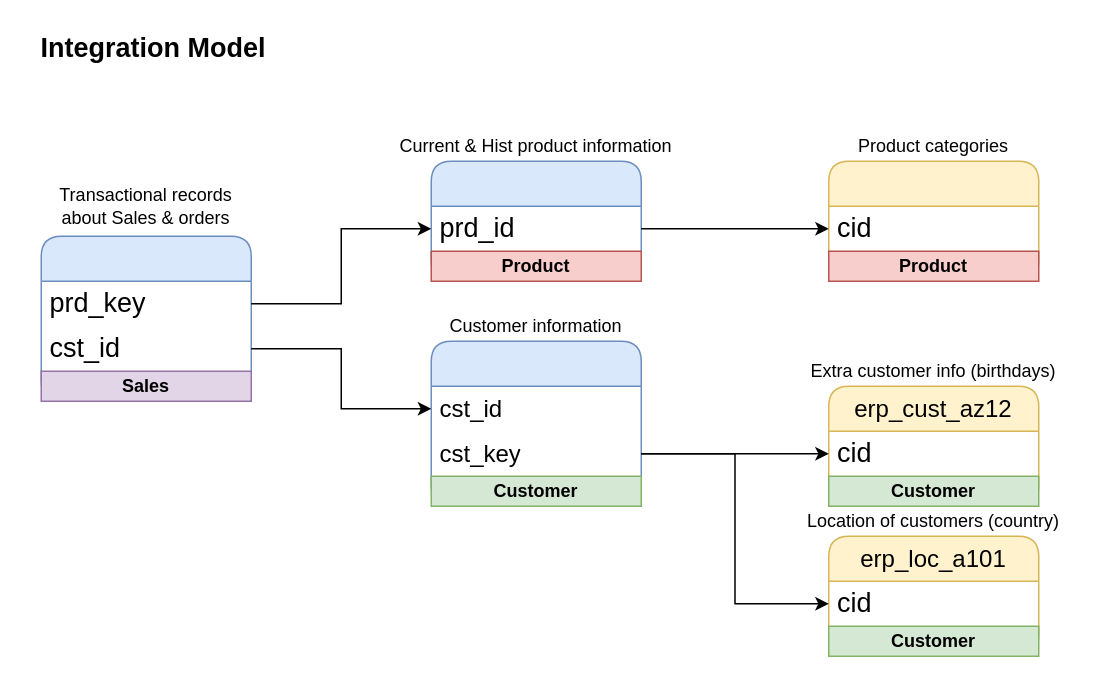
Some shapes in this 1101 by 683 pixel diagram are drawn without their labels. Here are the shapes that lost their labels. From the top down, the box of each, then its label:
(430, 160, 641, 281): crm_prd_info
(827, 160, 1039, 281): erp_px_cat_g1v2
(40, 235, 251, 401): crm_sales_details
(430, 340, 641, 506): crm_cust_info
